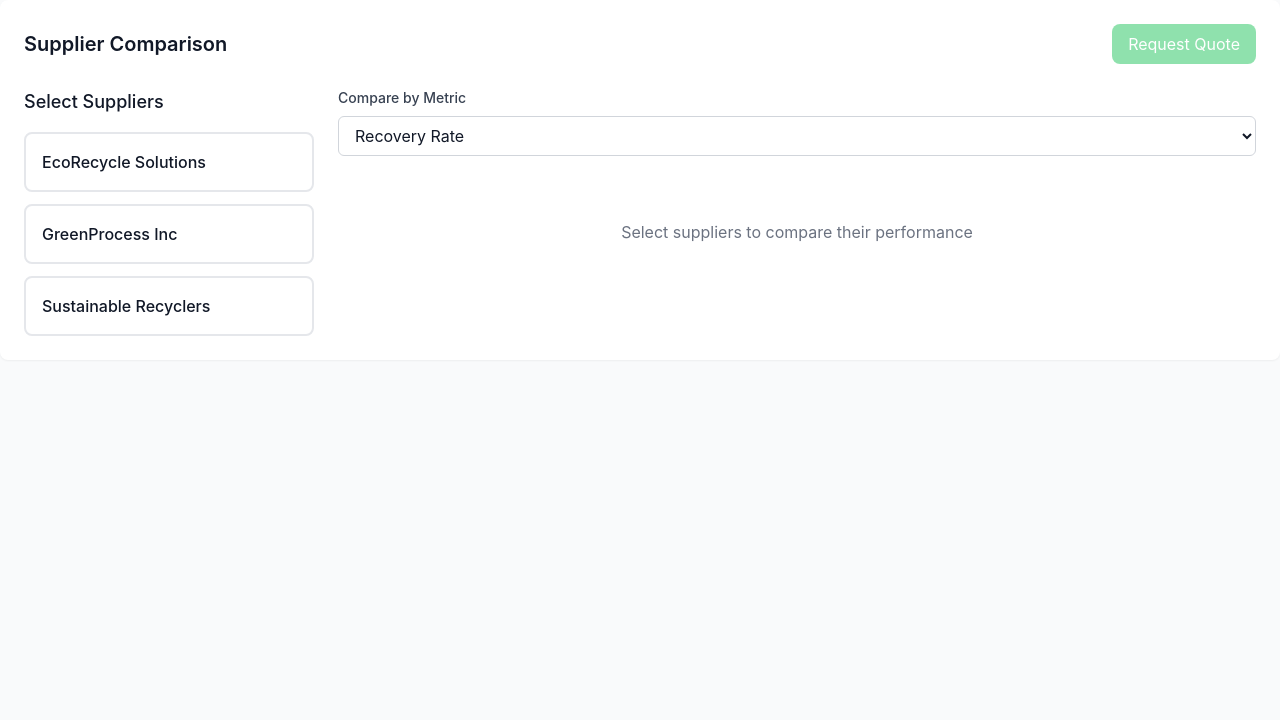
Test: SupplierComparison › enables quote request button when suppliers are selected
The image size is (1280, 720).
Expected: the button "Request Quote" is disabled, [1112, 24, 1256, 64]
Click the button "EcoRecycle Solutions" at (169, 162), box [24, 132, 314, 192]
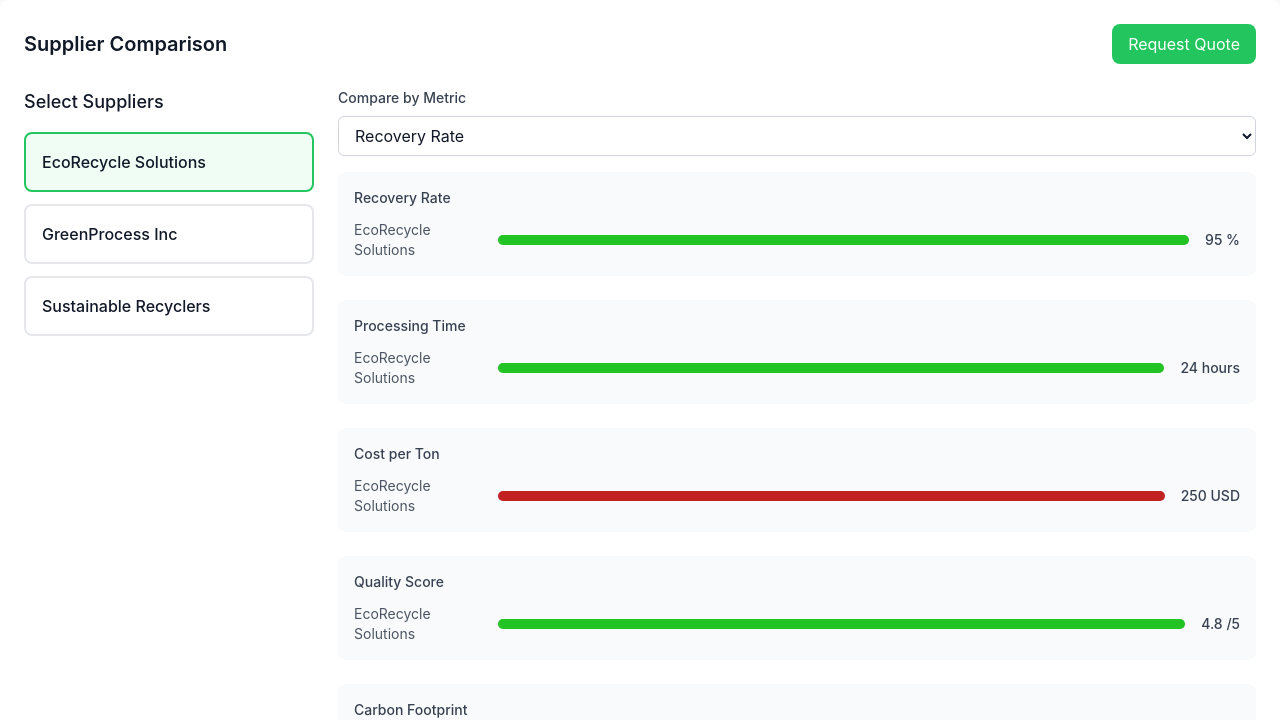
Expected: the button "Request Quote" is enabled, [1112, 24, 1256, 64]
